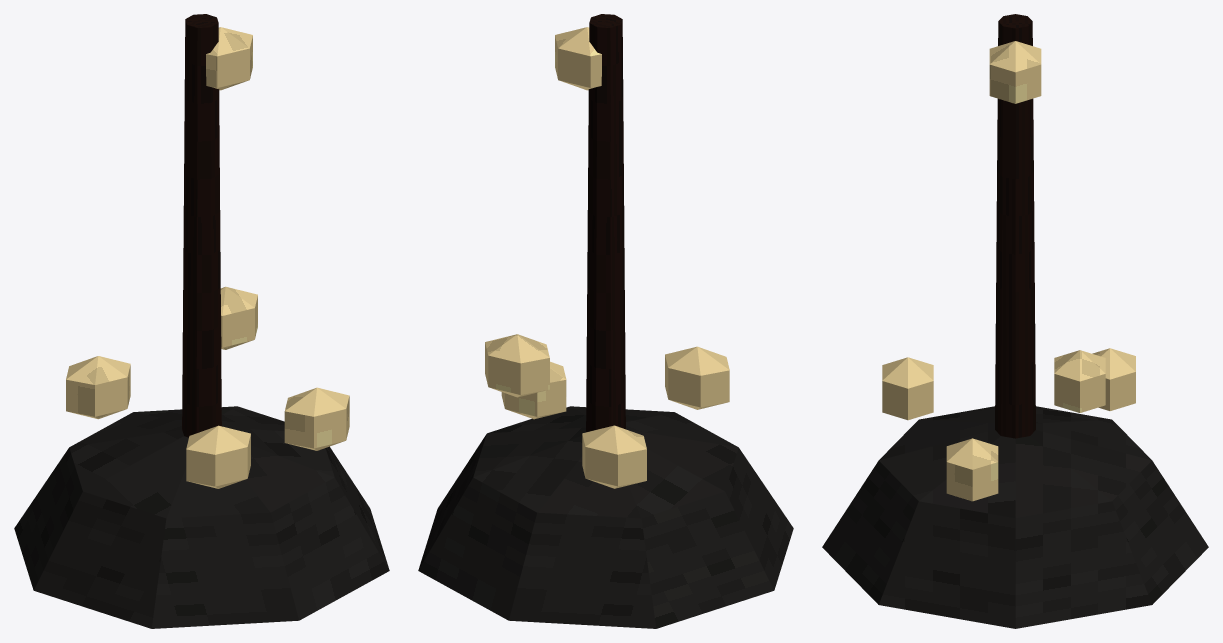
The model's file is craneos_culto.glb.
The picture shows the model from 3 angles, left to right: view 1: azimuth 30°, elevation 25°; view 2: azimuth 150°, elevation 25°; view 3: azimuth 270°, elevation 25°; orthographic projection.
Visible parts, largest first — view 1: monton, poste, craneos; view 2: monton, poste, craneos; view 3: monton, poste, craneos.
Boxes of the visible parts, box(x1,y1,x2,y2) form: monton: box(14, 406, 389, 628); poste: box(182, 14, 221, 437); craneos: box(66, 27, 349, 488); monton: box(418, 406, 793, 628); poste: box(586, 14, 625, 432); craneos: box(485, 27, 729, 488); monton: box(822, 406, 1208, 628); poste: box(995, 14, 1035, 438); craneos: box(882, 41, 1135, 501).
Size of the model in its own units: 1 by 1.5 by 1.
1 material, 1 textured.
